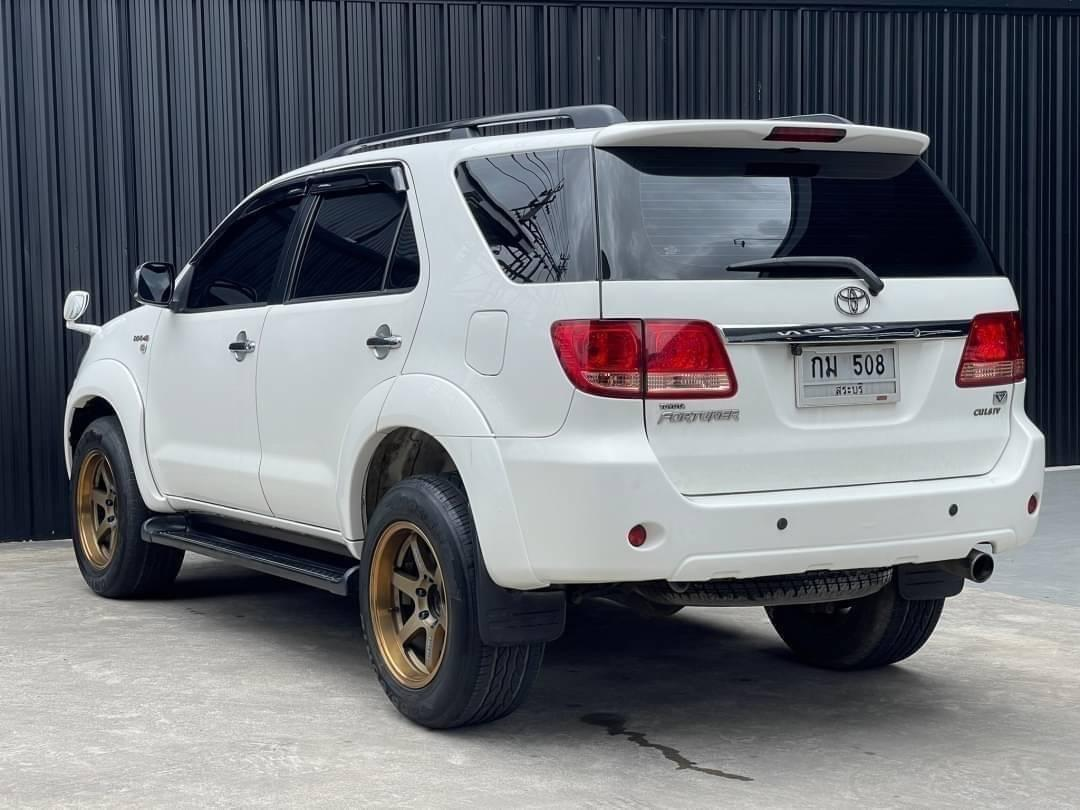license-plate: (792, 338, 904, 408)
